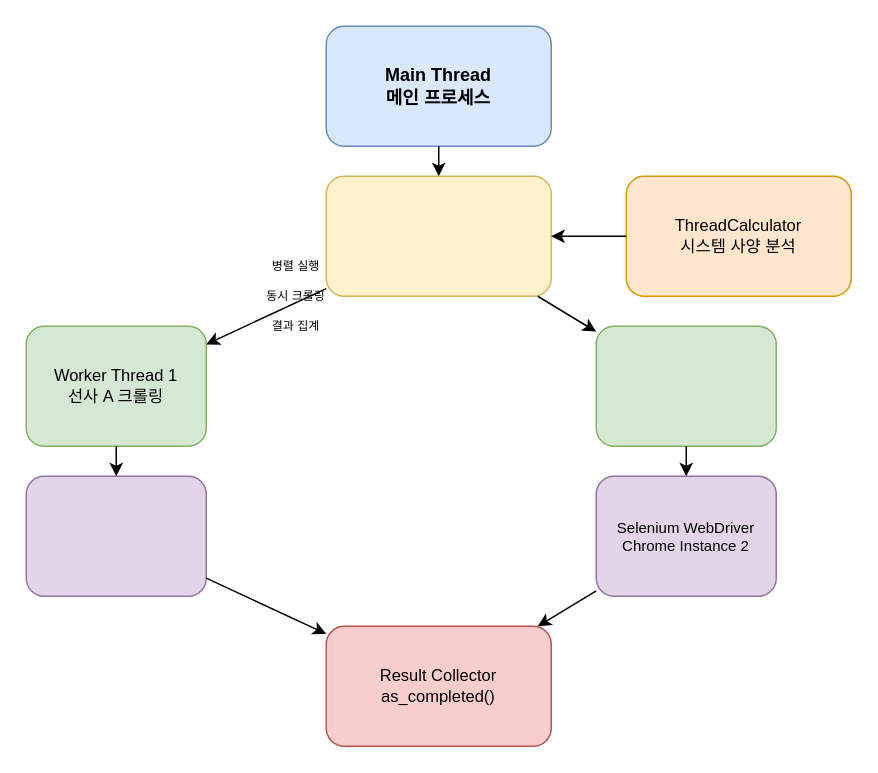
The diagram is 878 pixels wide and 773 high, and some of its shapes have lost their labels. Each missing label, with the centre of its shape:
Selenium WebDriver Chrome Instance 1: [115,535]
ThreadPoolExecutor max_workers=2: [438,235]
Worker Thread 2 선사 B 크롤링: [685,385]
